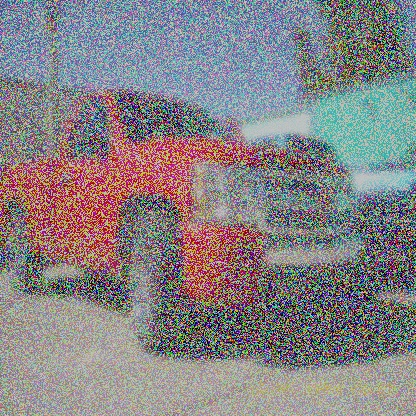Vehicle: (2, 74, 391, 373)
